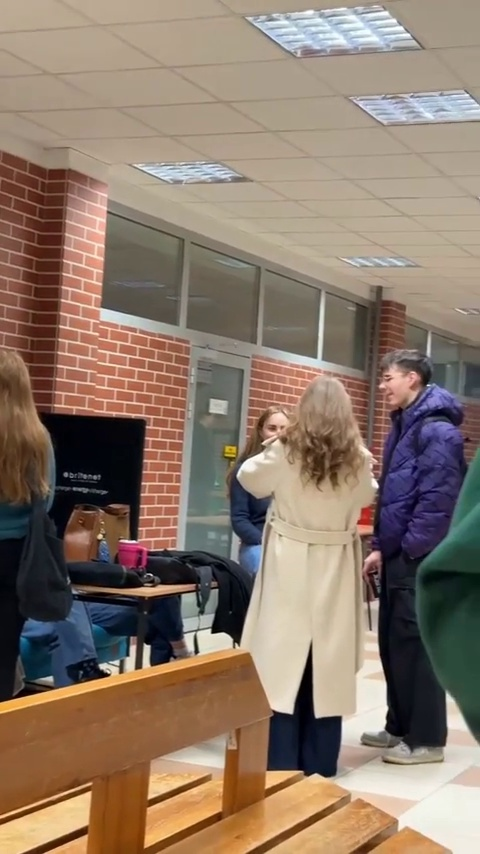no vest: (236, 369, 359, 727), (367, 341, 468, 727), (0, 350, 57, 677)
